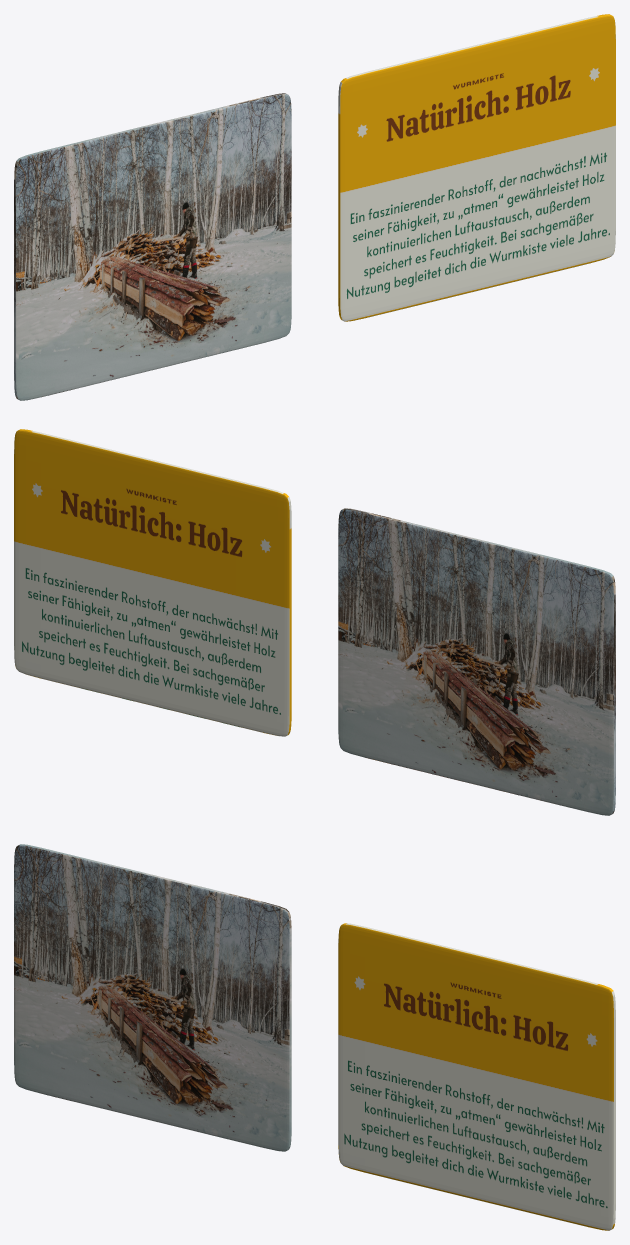
File: info_4.gltf
The picture shows the model from 3 angles, top to bottom: view 1: azimuth 30°, elevation 25°; view 2: azimuth 150°, elevation 25°; view 3: azimuth 330°, elevation 25°; orthographic projection.
Visible parts, largest first — view 1: Cube.001, Cube.002; view 2: Cube.001, Cube.002; view 3: Cube.001, Cube.002.
Part boxes in pixels (x1,y1,x2,y2): Cube.001: [14, 93, 291, 400]; Cube.002: [338, 14, 615, 321]; Cube.001: [338, 508, 615, 815]; Cube.002: [14, 429, 291, 736]; Cube.001: [14, 844, 291, 1151]; Cube.002: [338, 923, 615, 1230].
Bounding box in the file's own units: 0.6006 × 0.234 × 0.00441.
2 materials, 2 textured.
